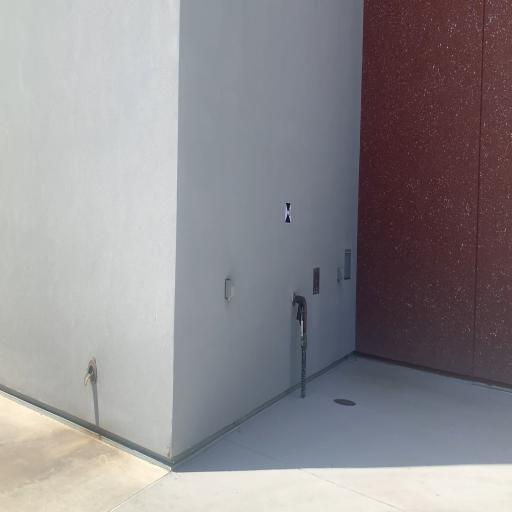target3: (284, 202, 292, 224)
